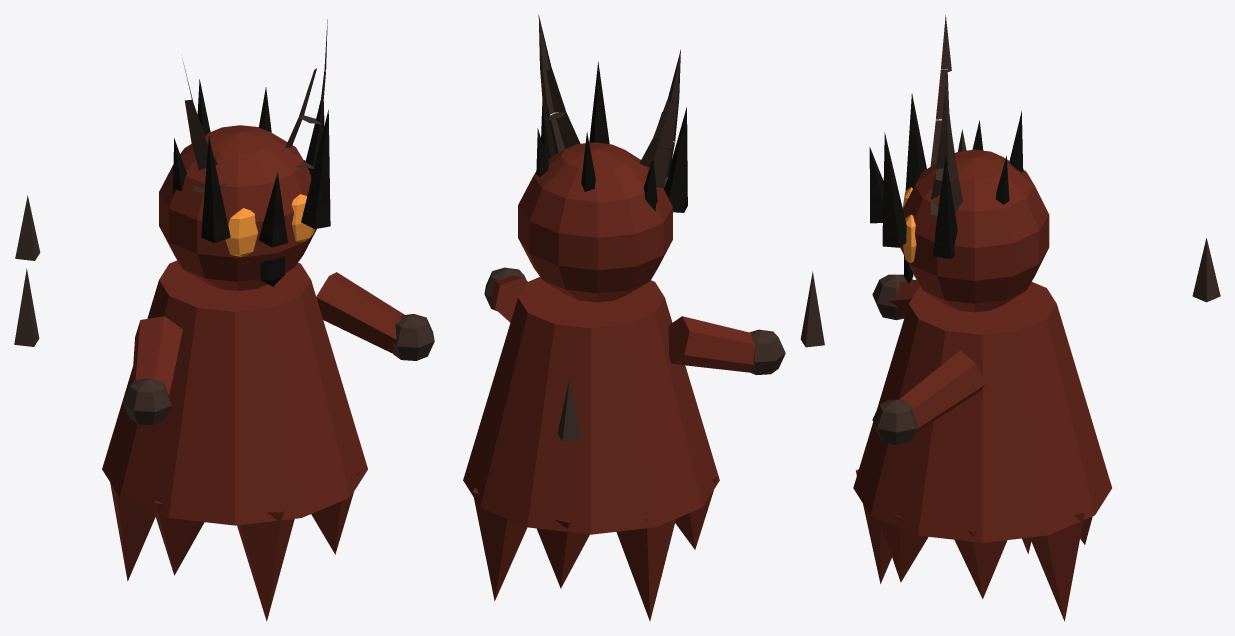
File: mon_sp_ember_king.glb
3 renders of one model, left to right at view 1: azimuth 30°, elevation 25°; view 2: azimuth 150°, elevation 25°; view 3: azimuth 270°, elevation 25°, orthographic. The views are drawn at different scales.
Visible parts, largest first — view 1: mon_sp_ember_king; view 2: mon_sp_ember_king; view 3: mon_sp_ember_king.
Boxes of the visible parts, x1,y1,x2,y2 form: mon_sp_ember_king: [14, 19, 434, 621]; mon_sp_ember_king: [463, 14, 824, 621]; mon_sp_ember_king: [853, 15, 1220, 621].
Size of the model in its own units: 1.93 by 2.68 by 1.64.
Materials: 5 (2 with a texture image).
